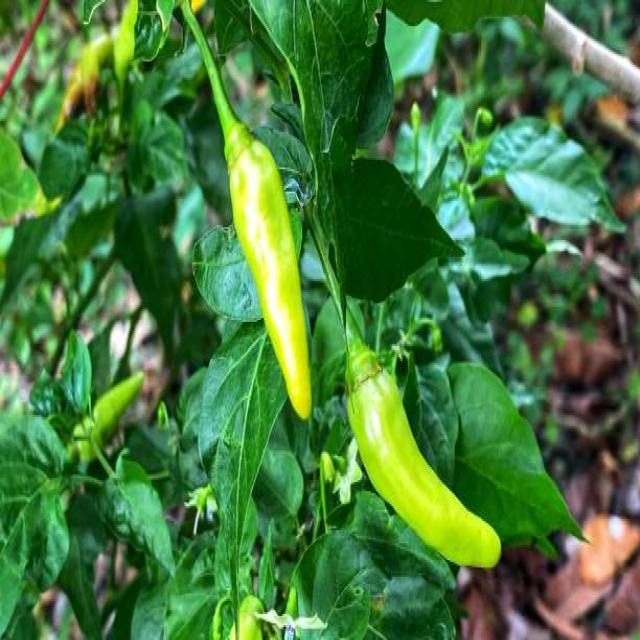Unripe: (347, 329, 496, 569), (231, 141, 311, 417)
